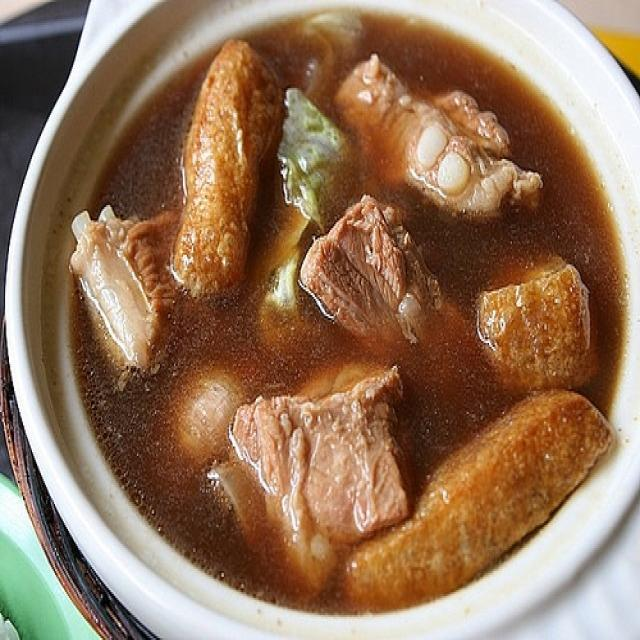汤锅炖物: (41, 25, 621, 602)
